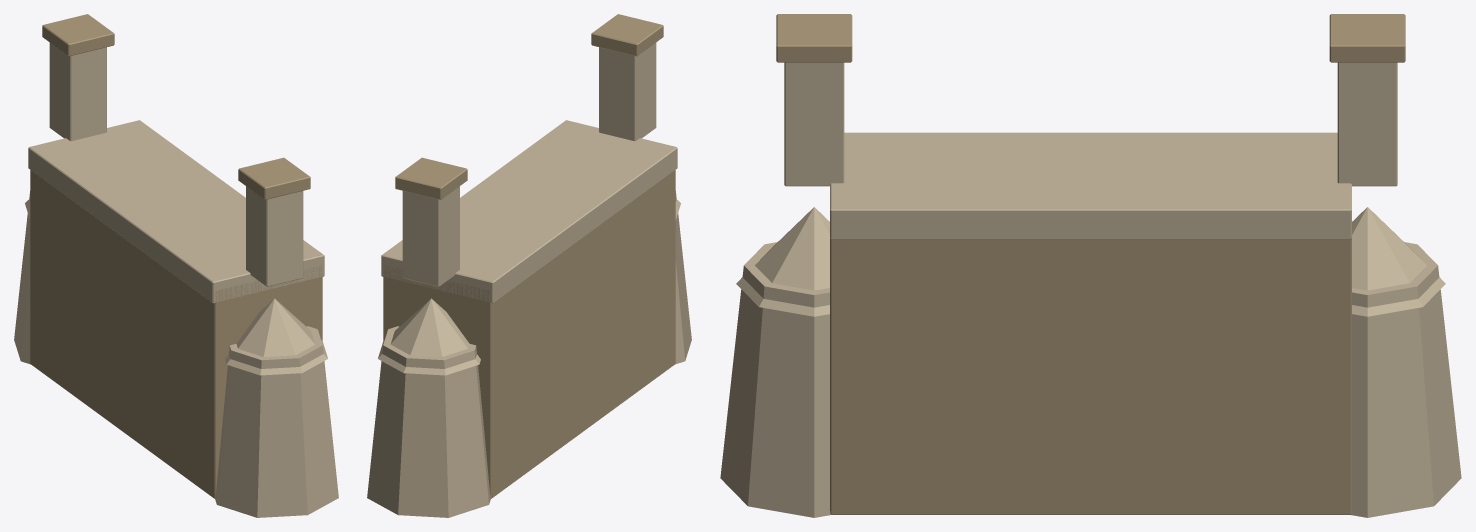
Rendered from bridge_pier.glb.
3 renders of one model, left to right at view 1: azimuth 30°, elevation 25°; view 2: azimuth 150°, elevation 25°; view 3: azimuth 270°, elevation 25°, orthographic. The views are drawn at different scales.
Visible parts, largest first — view 1: pier; view 2: pier; view 3: pier.
Boxes of the visible parts, x1=… form: pier: x1=14, y1=14, x2=338, y2=517; pier: x1=367, y1=14, x2=691, y2=517; pier: x1=720, y1=14, x2=1461, y2=517.
Bounding box in the file's own units: 1.44 × 3.8 × 5.68.
